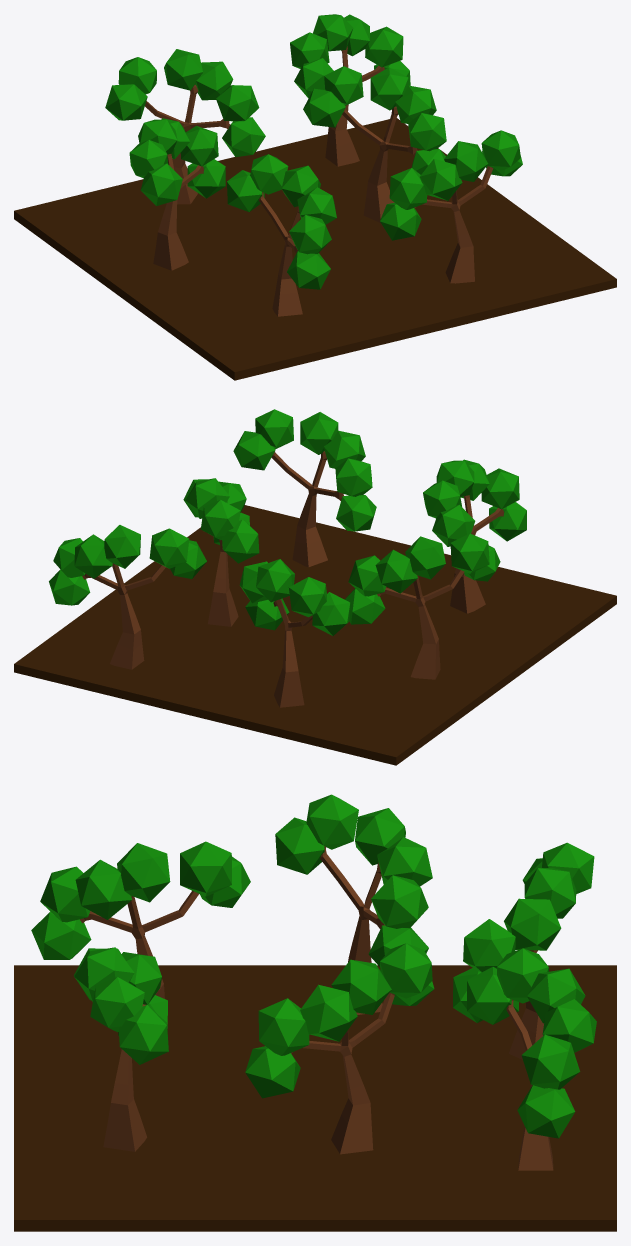
The model's file is park.fbx.
3 views of the same model, one above another, from view 1: azimuth 30°, elevation 25°; view 2: azimuth 150°, elevation 25°; view 3: azimuth 270°, elevation 25° (orthographic). The views are drawn at different scales.
Visible parts, largest first — view 1: Cube, Tree.001, Tree.005, Tree.002, Tree.004, Tree.003, Tree; view 2: Cube, Tree.004, Tree.003, Tree, Tree.005, Tree.002, Tree.001; view 3: Cube, Tree.001, Tree, Tree.005, Tree.003, Tree.004, Tree.002.
Boxes of the visible parts, left/top/right/bottom form: Cube: left=14, top=118, right=616, bottom=380; Tree.001: left=303, top=66, right=446, bottom=222; Tree.005: left=227, top=154, right=336, bottom=316; Tree.002: left=105, top=49, right=265, bottom=204; Tree.004: left=380, top=130, right=522, bottom=283; Tree.003: left=129, top=118, right=225, bottom=270; Tree: left=290, top=14, right=410, bottom=166; Cube: left=14, top=505, right=616, bottom=765; Tree.004: left=233, top=409, right=376, bottom=567; Tree.003: left=345, top=533, right=500, bottom=679; Tree: left=49, top=525, right=206, bottom=669; Tree.005: left=423, top=459, right=526, bottom=613; Tree.002: left=239, top=559, right=350, bottom=707; Tree.001: left=183, top=478, right=259, bottom=626; Cube: left=14, top=965, right=616, bottom=1231; Tree.001: left=245, top=943, right=434, bottom=1154; Tree: left=467, top=948, right=596, bottom=1170; Tree.005: left=31, top=841, right=250, bottom=998; Tree.003: left=275, top=794, right=432, bottom=1014; Tree.004: left=74, top=947, right=168, bottom=1151; Tree.002: left=453, top=842, right=594, bottom=1059.
Size of the model in its own units: 20 by 7.51 by 20.
